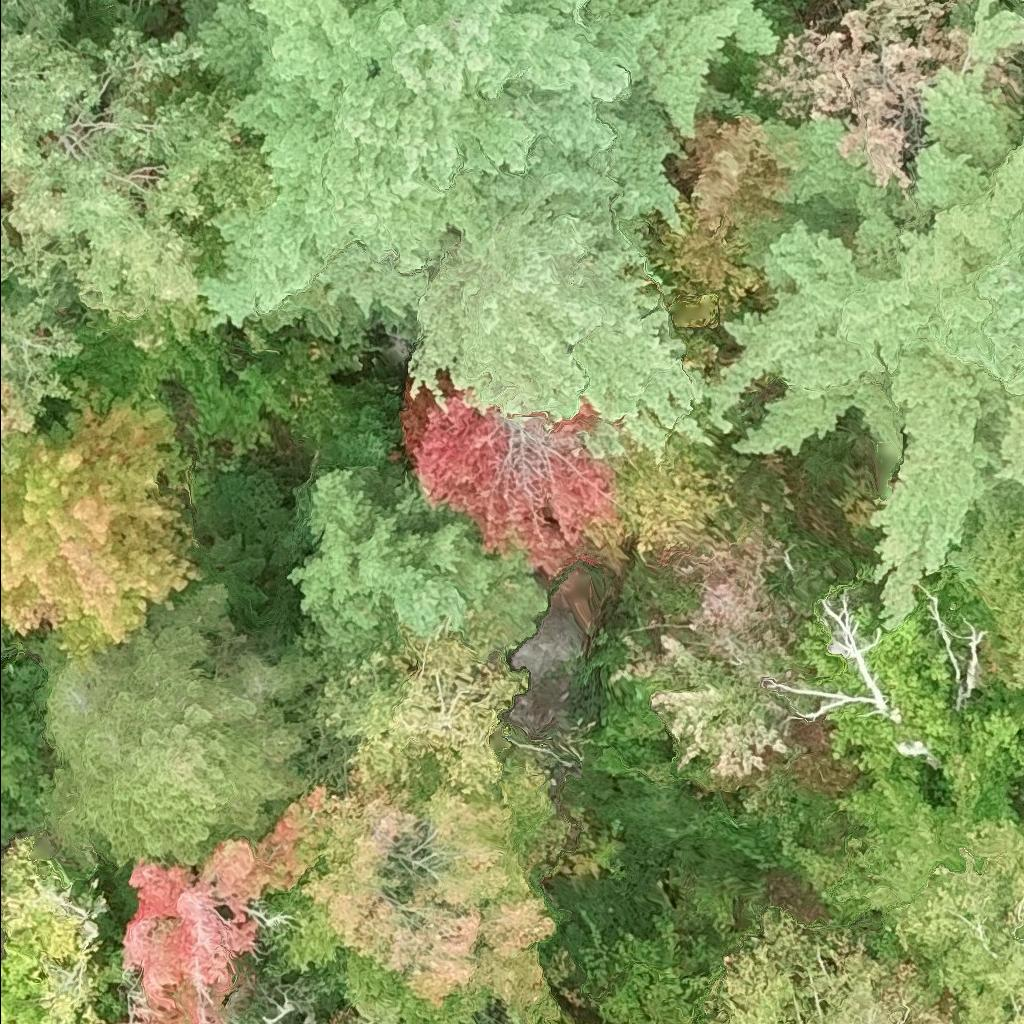crown: (188, 0, 779, 473), (693, 0, 1023, 624), (0, 31, 236, 385), (47, 586, 324, 878), (286, 790, 556, 1004), (0, 399, 201, 660), (290, 471, 548, 642), (396, 388, 622, 578), (754, 0, 964, 189), (321, 630, 522, 812), (124, 824, 296, 1023), (706, 916, 955, 1023), (921, 821, 1023, 1023), (0, 839, 104, 1023), (0, 0, 106, 161), (602, 442, 741, 554), (677, 115, 788, 229), (0, 316, 74, 434), (979, 522, 1023, 675), (505, 1010, 521, 1023), (325, 795, 329, 801), (324, 792, 325, 795)
